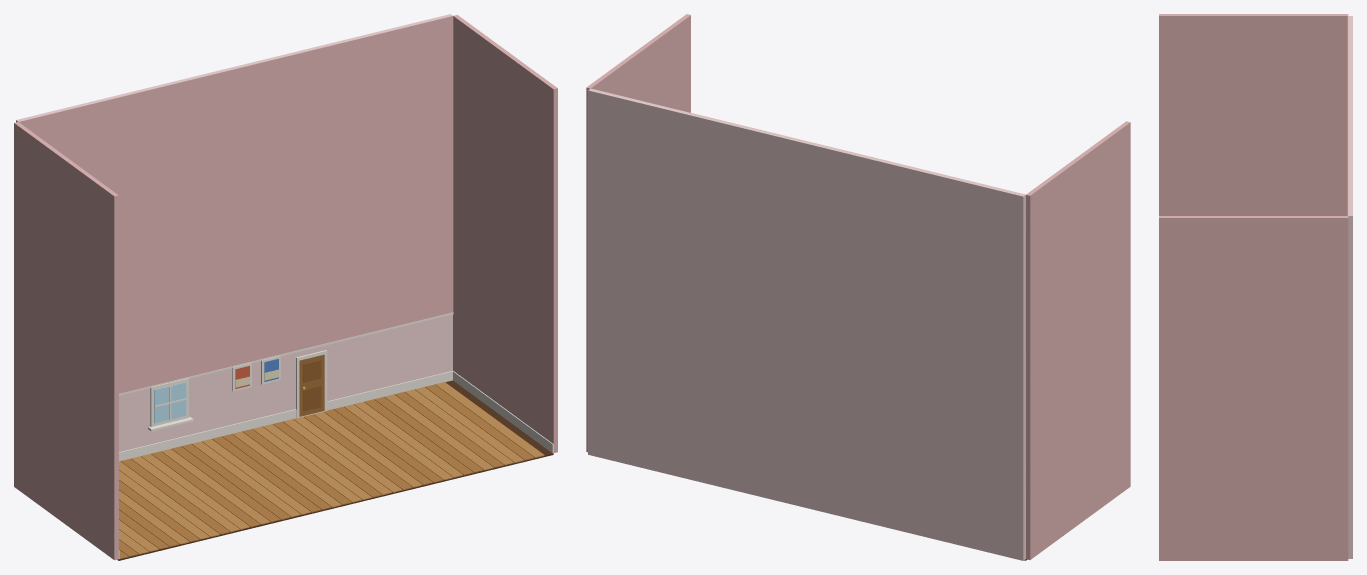
The model's file is room_rosa_wood.glb.
The picture shows the model from 3 angles, left to right: view 1: azimuth 30°, elevation 25°; view 2: azimuth 150°, elevation 25°; view 3: azimuth 270°, elevation 25°; orthographic projection. The views are drawn at different scales.
Parts seen in each view (by area): view 1: room; view 2: room; view 3: room.
Boxes of the visible parts, left/top/right/bottom form: room: left=14, top=14, right=557, bottom=560; room: left=586, top=14, right=1130, bottom=560; room: left=1159, top=14, right=1352, bottom=560.
Size of the model in its own units: 30.6 by 24.11 by 12.3.
